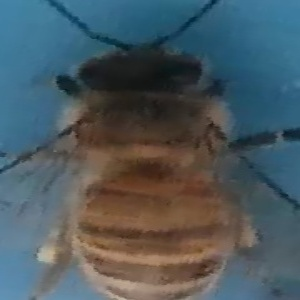bee: (13, 2, 292, 300)
